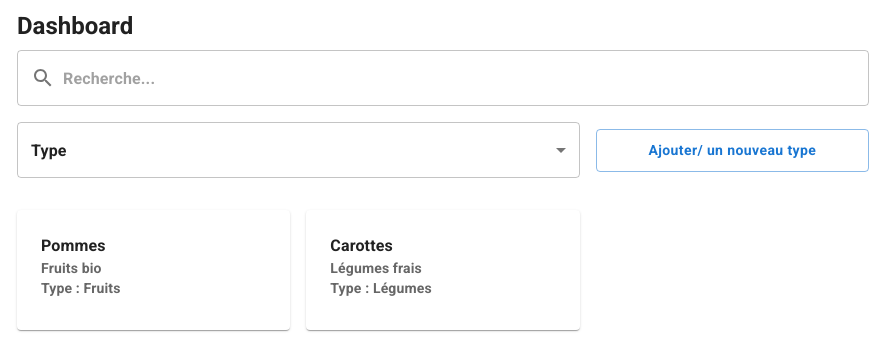
Scenario: DashboardPage › Filter products with search bar
The image size is (886, 349).
Type "Pommes" into the field with placeholder "Recherche..." at (466,78), box [63, 50, 869, 106]
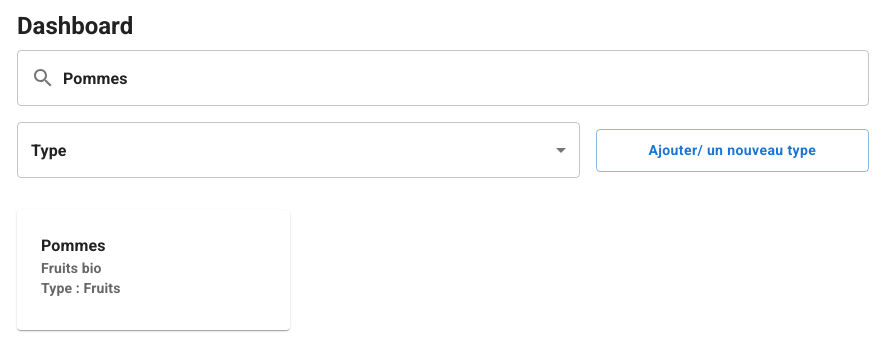
Check: the text "Pommes" is shown, box [41, 236, 106, 255]
Check: the link "Carottes" is gone
